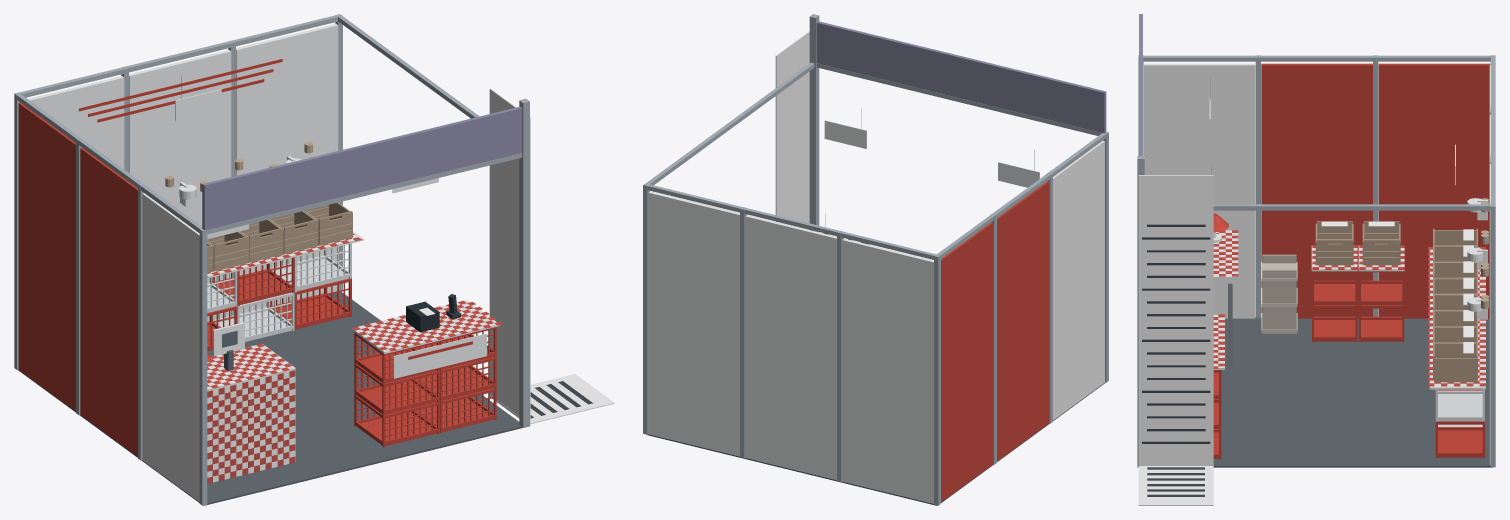
The picture shows the model from 3 angles, left to right: view 1: azimuth 30°, elevation 25°; view 2: azimuth 150°, elevation 25°; view 3: azimuth 270°, elevation 25°; orthographic projection. The views are drawn at different scales.
Visible parts, largest first — view 1: walls (×2), fixtures (×6), graphic (×7), overhead (×2), floor, frame; view 2: walls (×2), overhead (×2), frame, graphic (×2), floor; view 3: walls (×2), floor, graphic (×4), fixtures (×10), overhead (×2), frame.
Part boxes in pixels (x1=…): walls (×2): x1=18, y1=23, x2=338, y2=501; fixtures (×6): x1=201, y1=202, x2=499, y2=447; graphic (×7): x1=79, y1=59, x2=614, y2=483; overhead (×2): x1=16, y1=15, x2=522, y2=234; floor: x1=18, y1=291, x2=522, y2=505; frame: x1=14, y1=14, x2=529, y2=505; walls (×2): x1=648, y1=140, x2=1104, y2=503; overhead (×2): x1=646, y1=21, x2=1106, y2=259; frame: x1=643, y1=14, x2=1108, y2=505; graphic (×2): x1=775, y1=31, x2=1039, y2=229; floor: x1=647, y1=383, x2=1104, y2=505; walls (×2): x1=1144, y1=63, x2=1490, y2=464; floor: x1=1213, y1=317, x2=1492, y2=467; graphic (×4): x1=1138, y1=175, x2=1485, y2=505; fixtures (×10): x1=1213, y1=198, x2=1488, y2=459; overhead (×2): x1=1138, y1=14, x2=1495, y2=210; frame: x1=1137, y1=55, x2=1495, y2=467.
Bounding box in the file's own units: 3.85 × 2.92 × 3.06.
